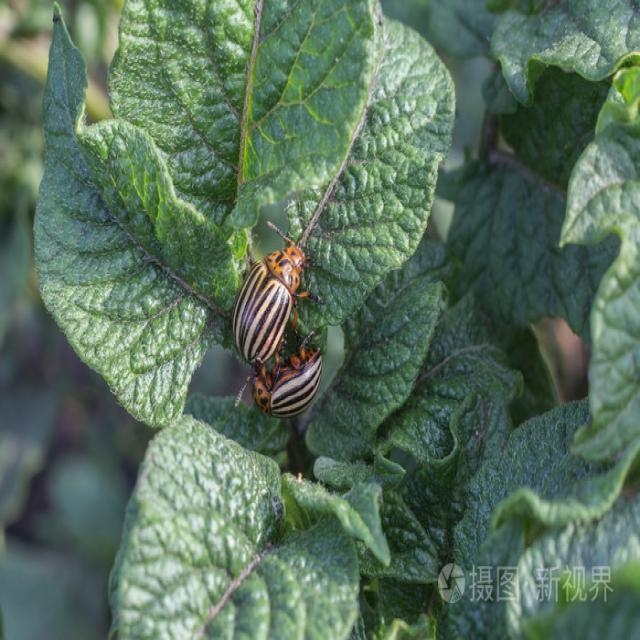ShuCaiHuaBanChong-Grown-: (237, 239, 302, 366), (245, 347, 335, 422)
